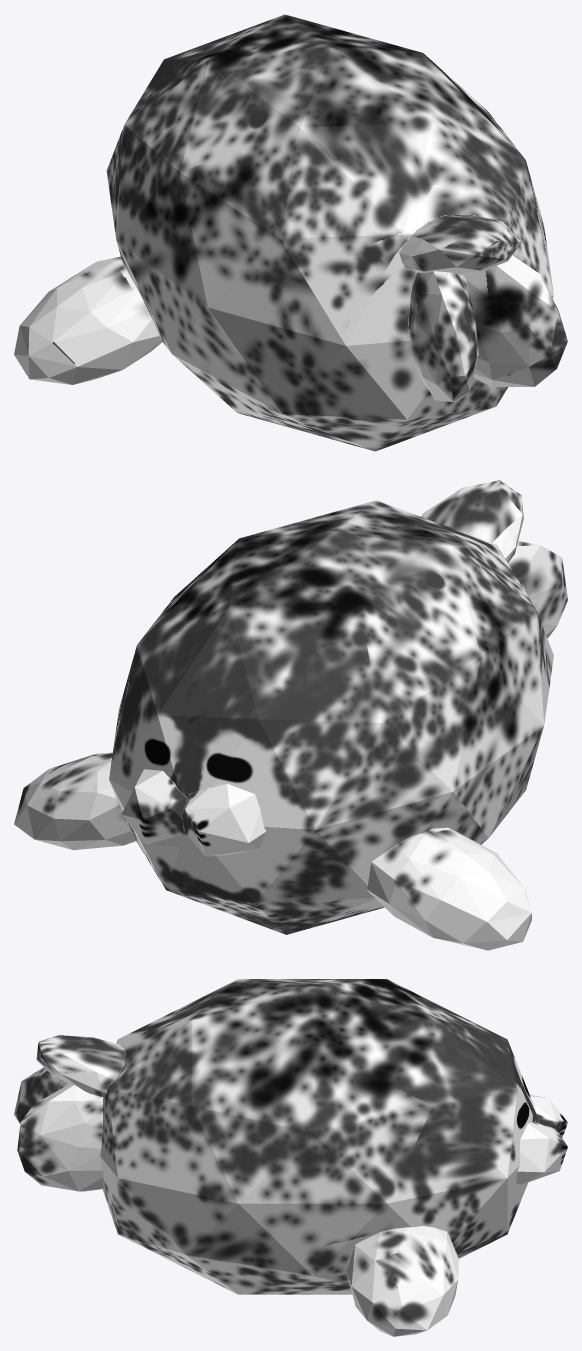
The model's file is ceiling.obj.
The picture shows the model from 3 angles, top to bottom: view 1: azimuth 30°, elevation 25°; view 2: azimuth 150°, elevation 25°; view 3: azimuth 270°, elevation 25°; orthographic projection. The views are drawn at different scales.
Visible parts, largest first — view 1: Sphere.013; view 2: Sphere.013; view 3: Sphere.013.
Boxes of the visible parts, <box> form: Sphere.013: <box>14,14,567,451</box>; Sphere.013: <box>14,480,567,950</box>; Sphere.013: <box>14,979,567,1336</box>.
Size of the model in its own units: 2.88 by 2 by 3.34.
Materials: 1 (1 with a texture image).
